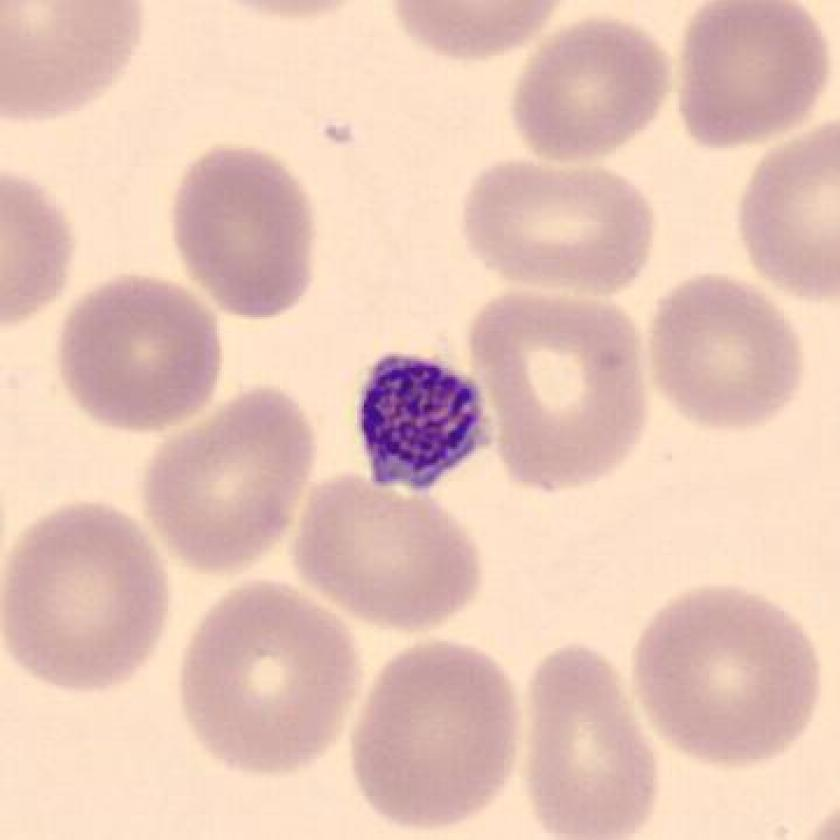platelets: (349, 346, 498, 501)
